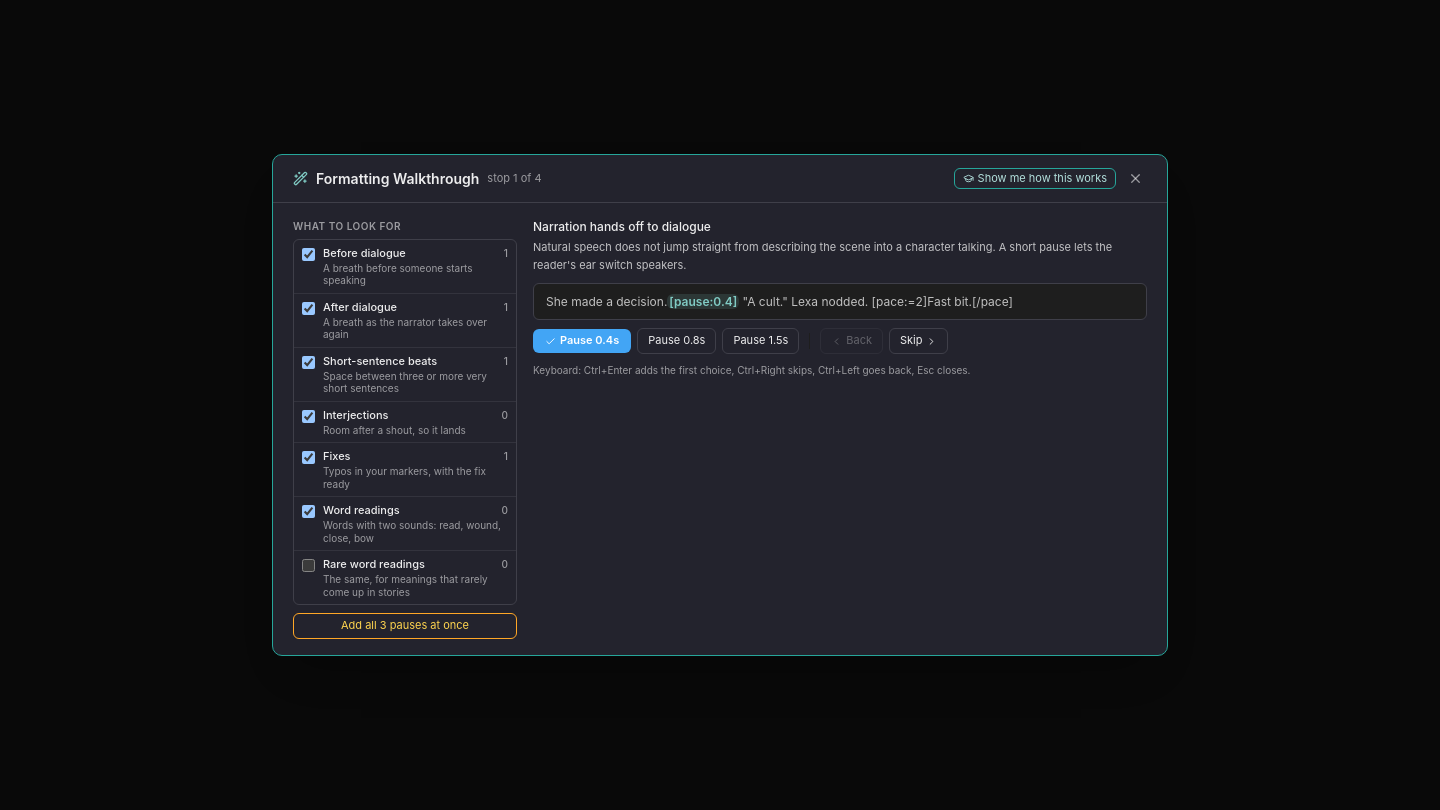
Test case: InsertWalkthrough › Auto-apply requires a confirm, applies beats, leaves repairs manual
Click the button "Add all 3 pauses at once".
click(405, 626)  # box [293, 613, 517, 639]
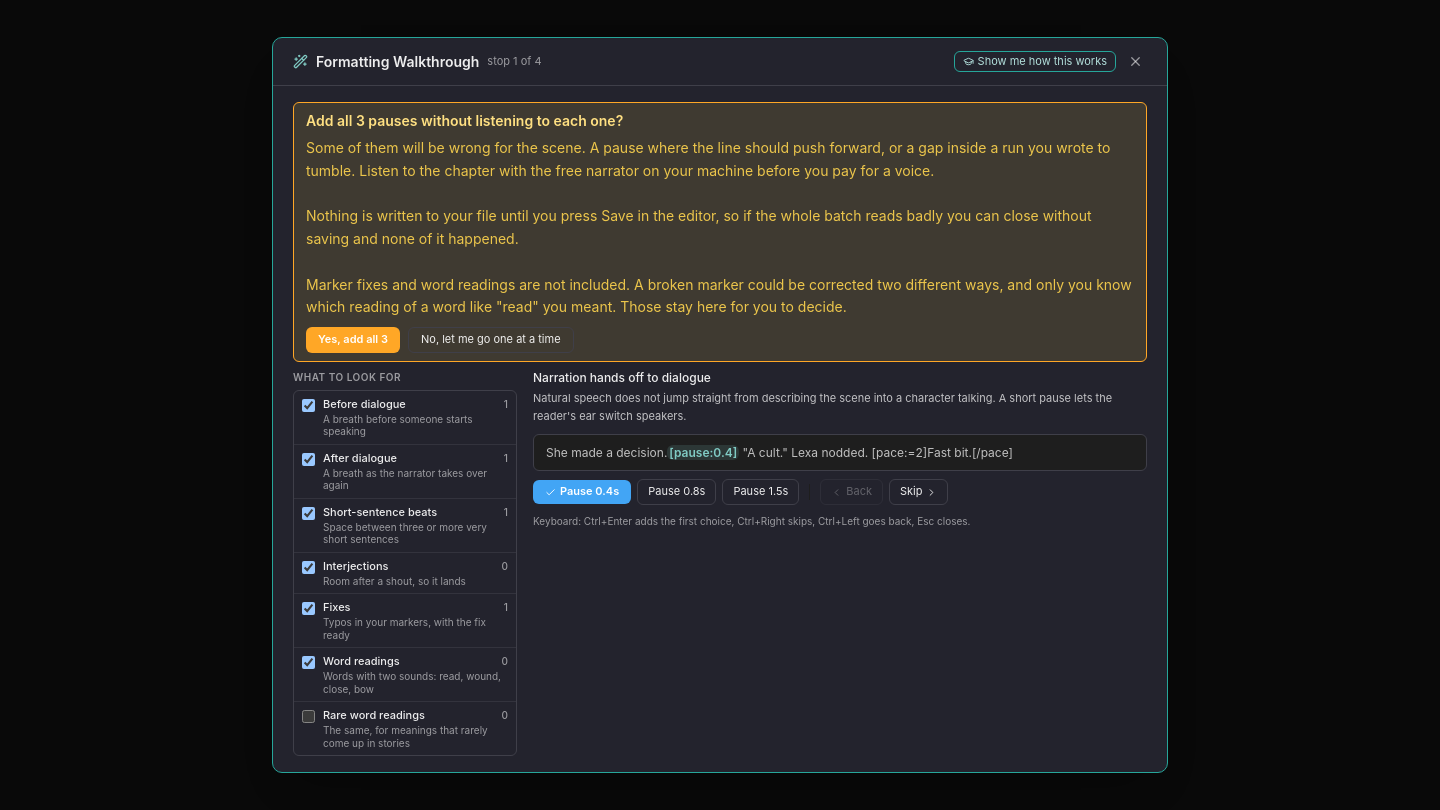
Expected: the text "wrong for the scene" is shown, [306, 139, 1110, 179]
Click the button "Yes, add all 3".
click(353, 340)  # box [306, 327, 400, 353]
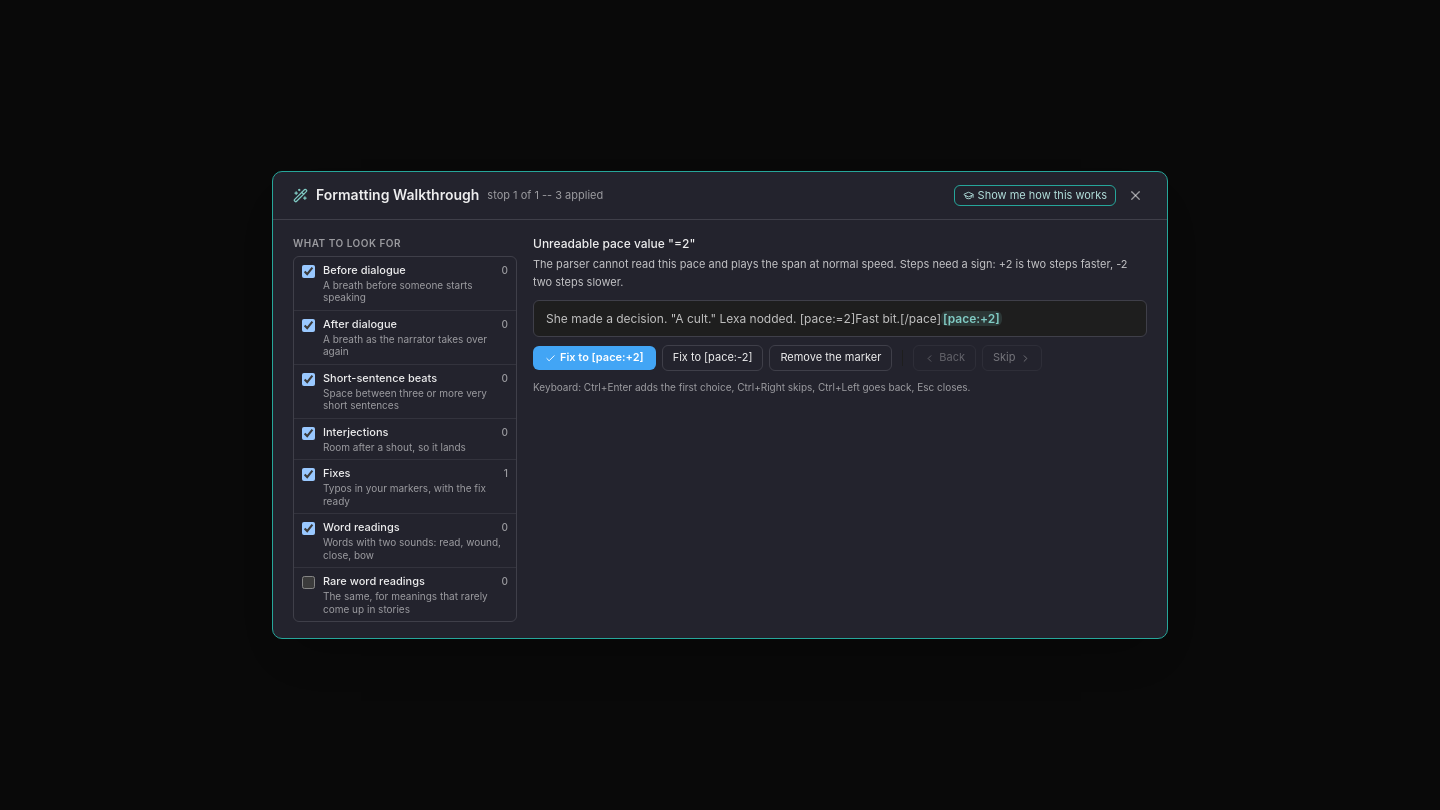
Expected: the text "Unreadable pace value \"=2\"" is shown, [533, 236, 695, 251]
Expected: the text "Add all 3 pauses without listening to each one?" is gone
